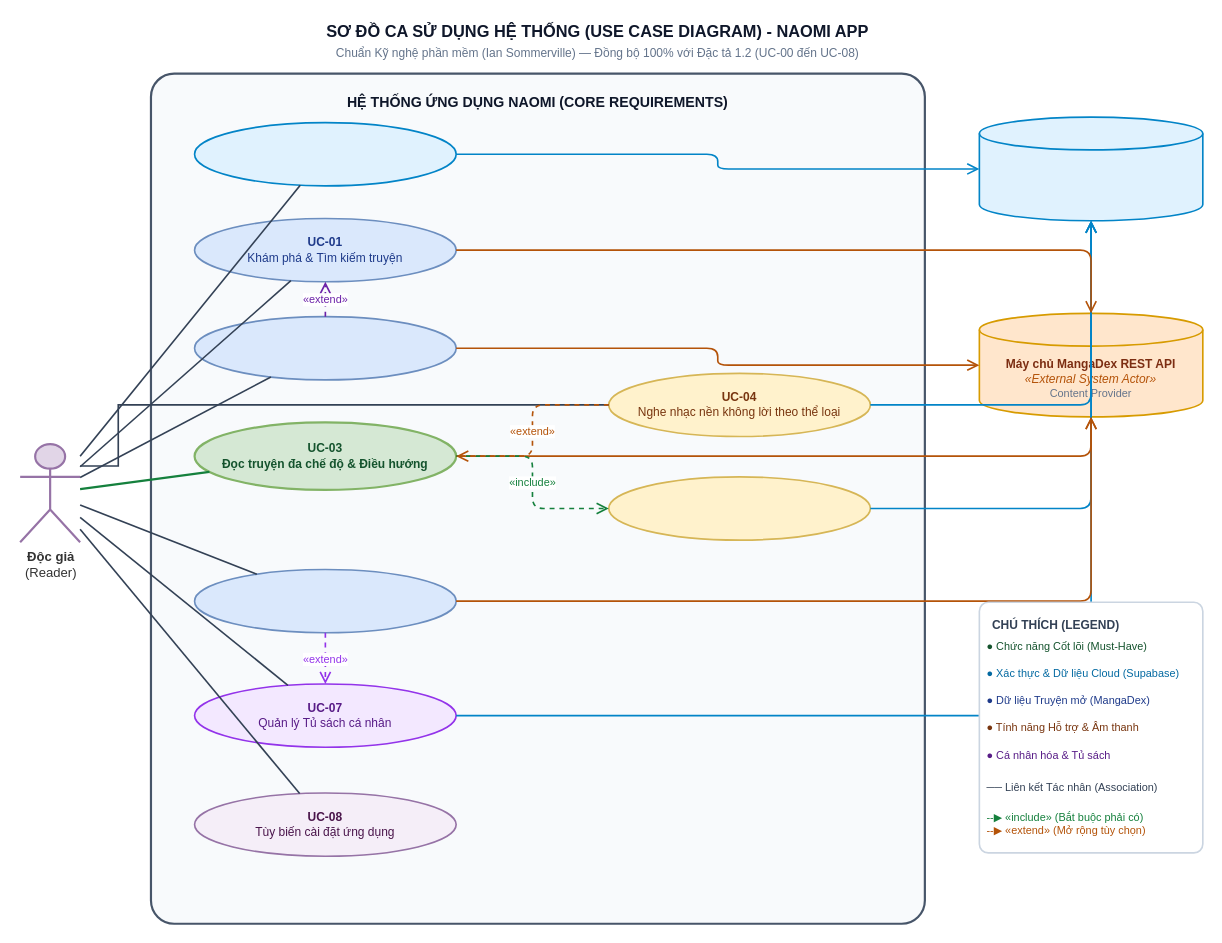
Some shapes in this 1222 by 943 pixel diagram are drawn without their labels. The shapes that lost their labels are listed below. From the top down, each one's centre as x and y in pixels, then its label:
the point at 324,153: UC-00 Xác thực & Quản lý tài khoản
the point at 1090,168: Máy chủ Backend Supabase «External System Actor» Auth & User Cloud DB
the point at 324,347: UC-02 Xem chi tiết tác phẩm & Truy cập chương
the point at 739,508: UC-05 Nạp trước dữ liệu chương & Lưu tiến trình
the point at 324,600: UC-06 Tải chương ngoại tuyến & Xử lý mất mạng
